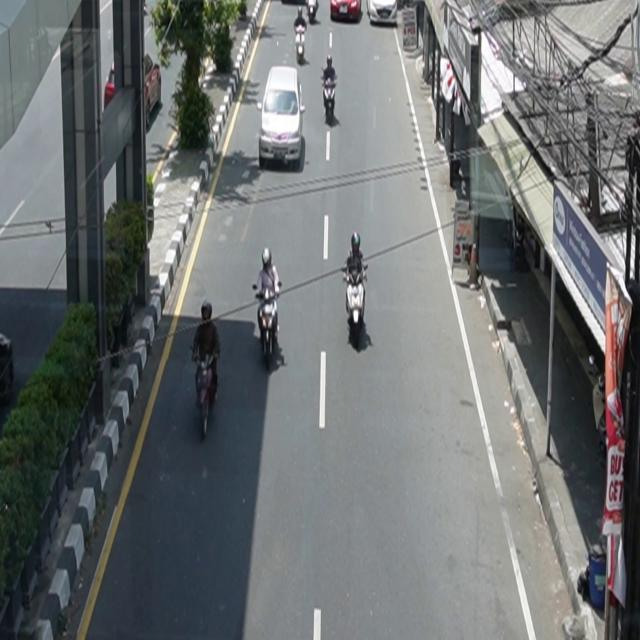car: (258, 66, 306, 169), (105, 54, 162, 130), (368, 1, 399, 26), (331, 1, 363, 23)
